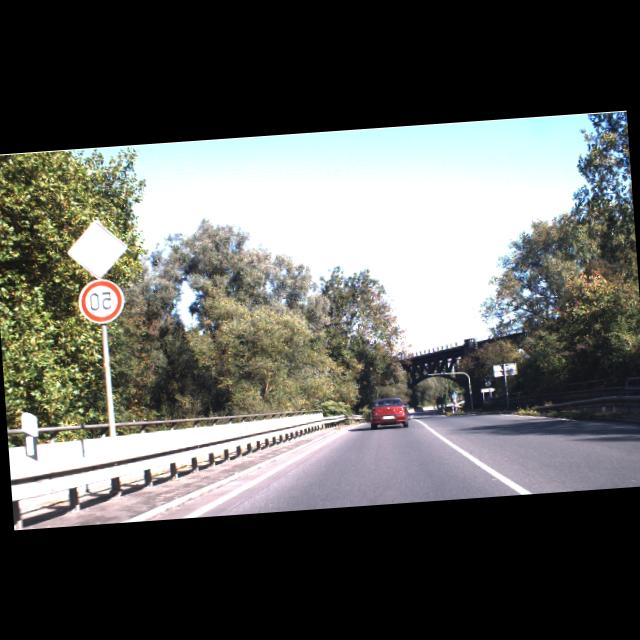other: (66, 218, 130, 281)
prohibitory: (76, 278, 126, 324)
